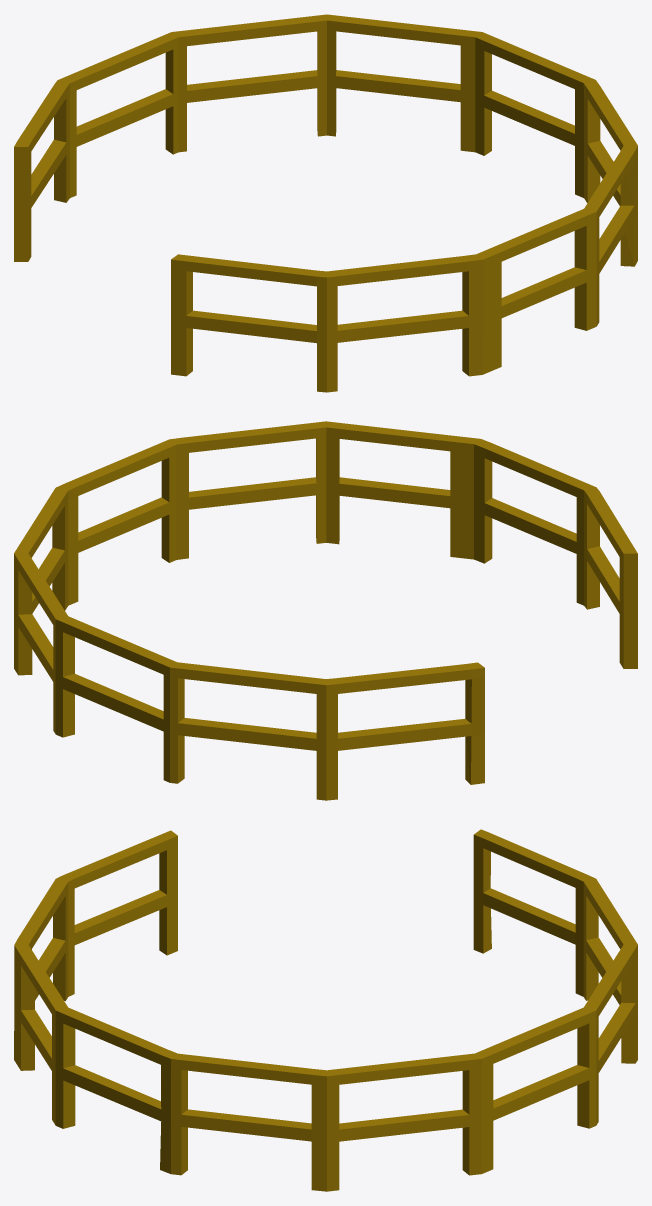
Rendered from BaseRanch2.fbx.
3 views of the same model, one above another, from view 1: azimuth 30°, elevation 25°; view 2: azimuth 150°, elevation 25°; view 3: azimuth 270°, elevation 25° (orthographic).
Visible parts, largest first — view 1: Ranch2; view 2: Ranch2; view 3: Ranch2.
Part boxes in pixels (x1=…): Ranch2: x1=14, y1=14, x2=637, y2=392; Ranch2: x1=14, y1=421, x2=637, y2=800; Ranch2: x1=14, y1=829, x2=637, y2=1191.
Size of the model in its own units: 25.18 by 5.48 by 26.88.
